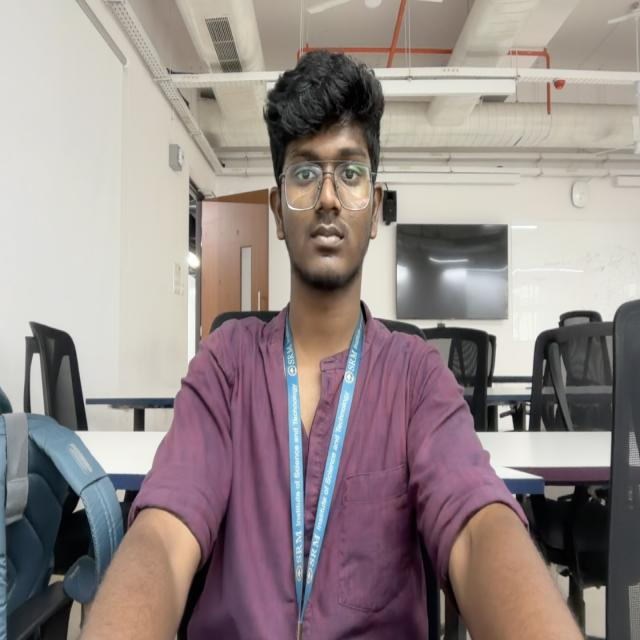ravindra: (262, 50, 387, 294)
